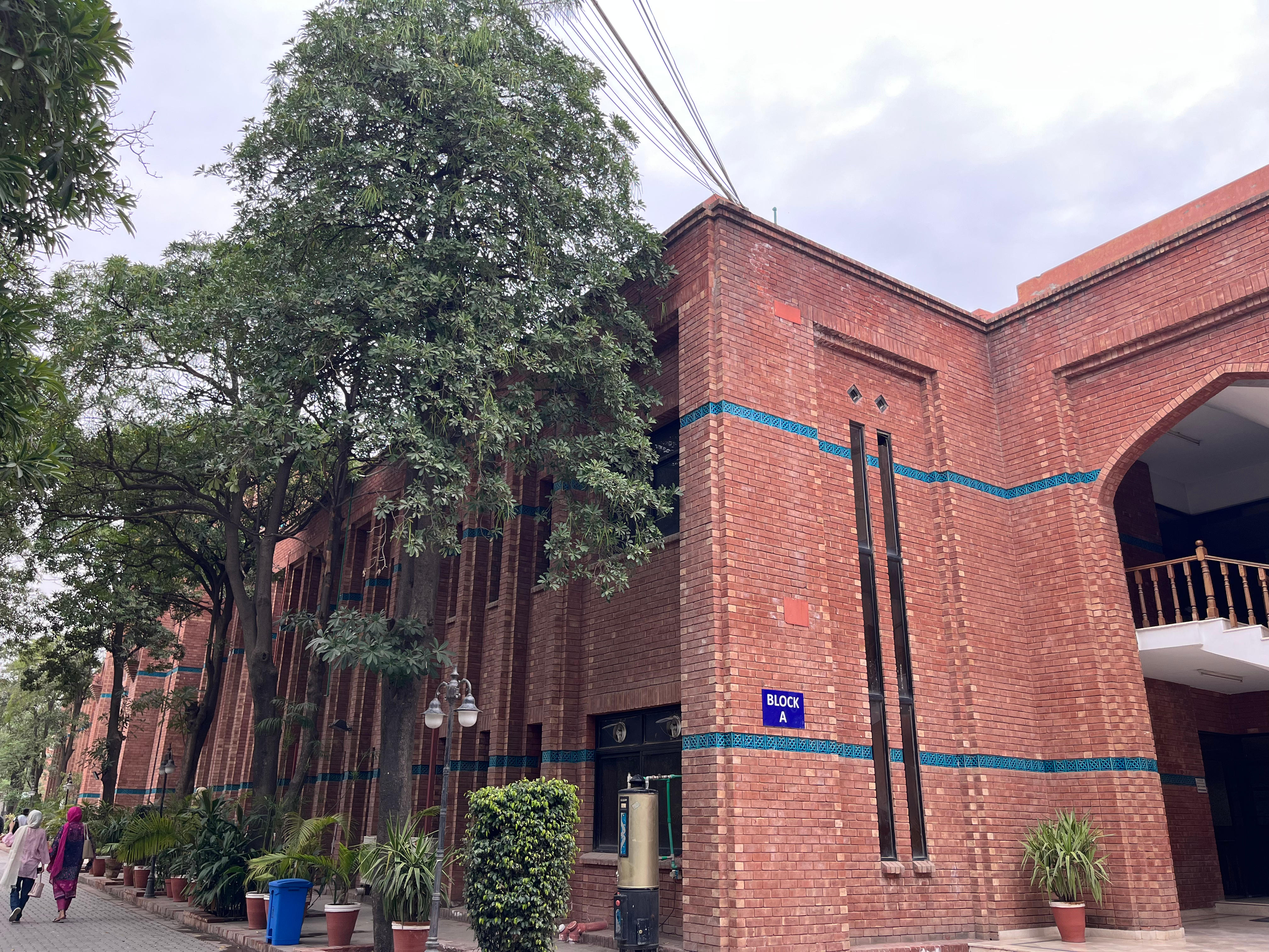Block A: (87, 201, 1269, 912)
